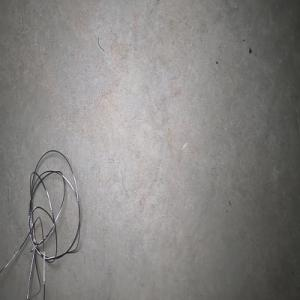Wire: (0, 150, 80, 300)
